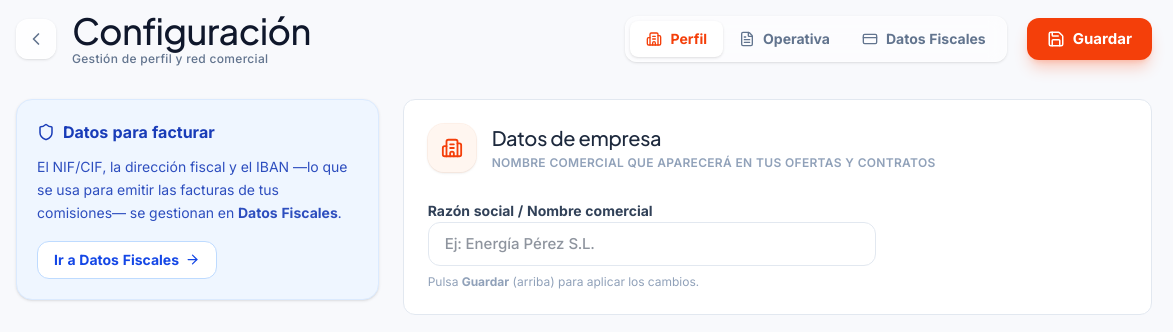
SettingsView — guardar › avisa cuando el guardado falla en vez de callar
The image size is (1173, 332).
Click the button "Guardar": (1089, 39) 1027,18 -> 1152,60
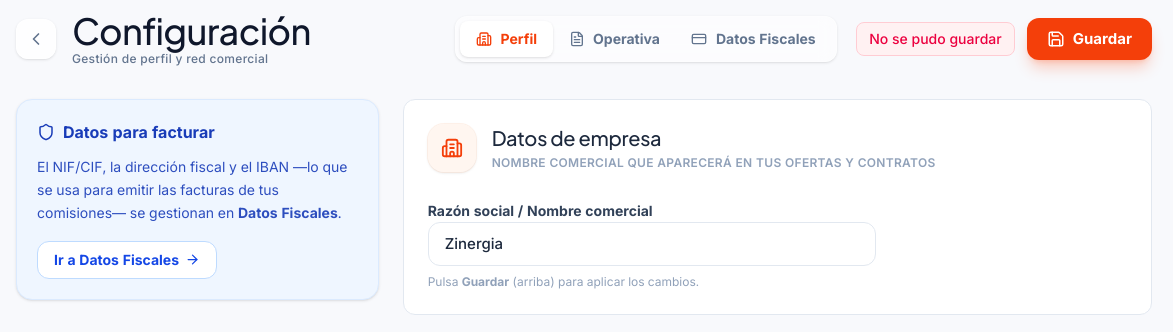
Check: the text "No se pudo guardar" is shown, box 856,22 -> 1015,56
